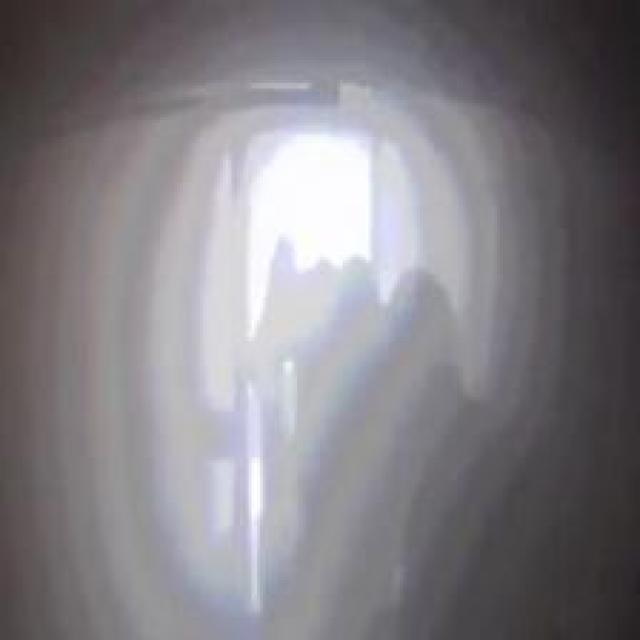fire: (64, 78, 567, 604)
